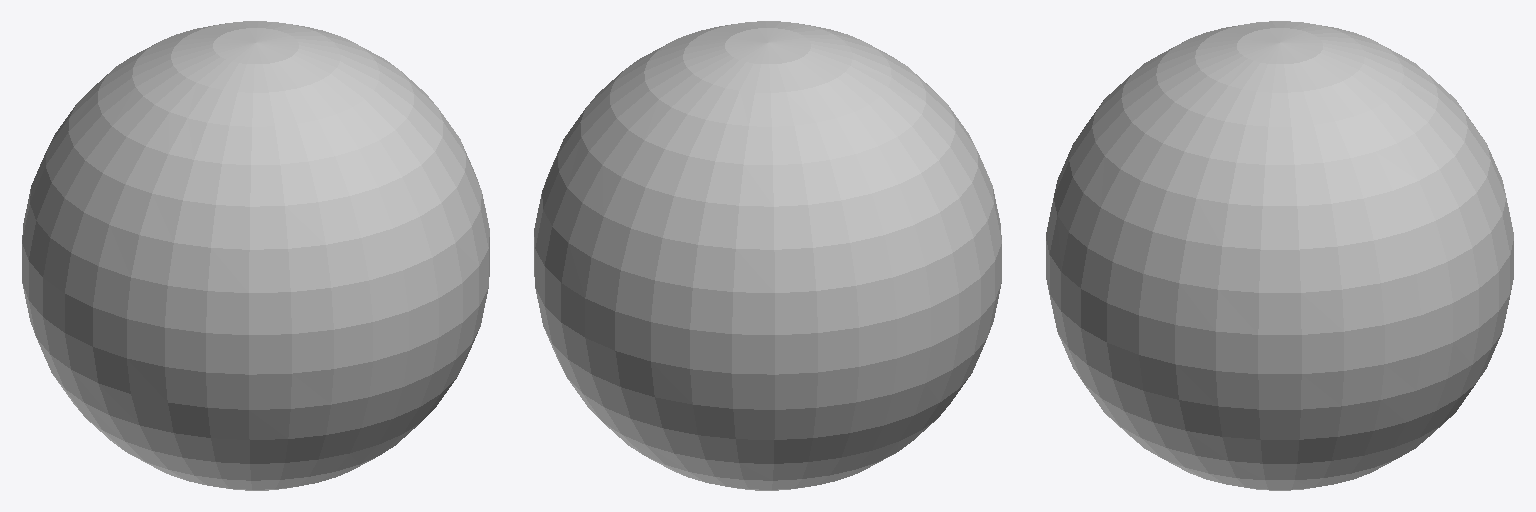
File: right_sphere.obj
3 views of the same model, side by side, from view 1: azimuth 30°, elevation 25°; view 2: azimuth 150°, elevation 25°; view 3: azimuth 270°, elevation 25° (orthographic).
Visible parts, largest first — view 1: rightSphere; view 2: rightSphere; view 3: rightSphere.
Part boxes in pixels (x1,y1,x2,y2): rightSphere: (22,21,489,490); rightSphere: (534,21,1001,490); rightSphere: (1046,21,1513,490).
Bounding box in the file's own units: 0.6471 × 0.6526 × 0.6499.